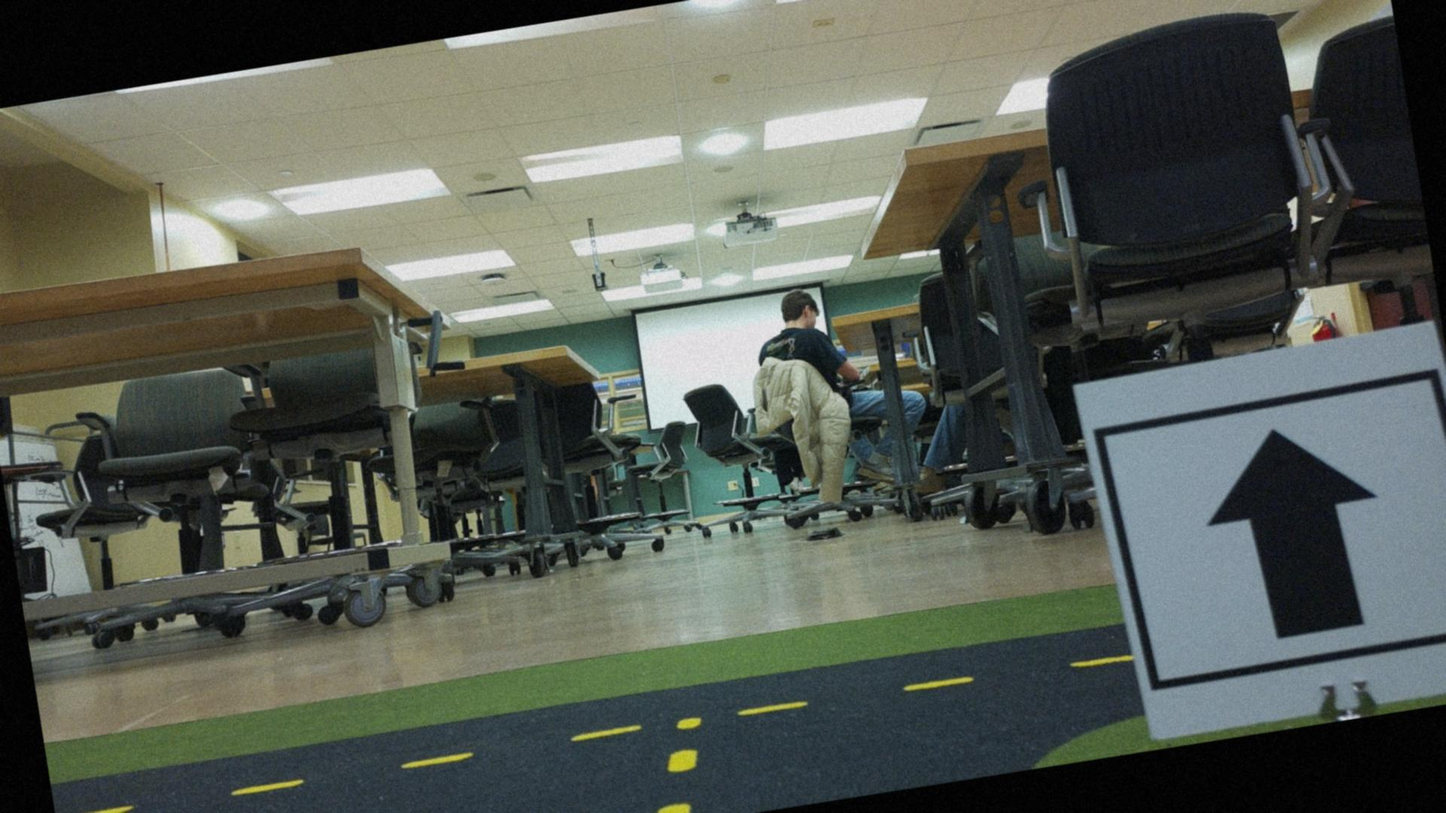gostraight: (1096, 331, 1445, 729)
yellowline: (55, 644, 1135, 812), (637, 709, 713, 812)
